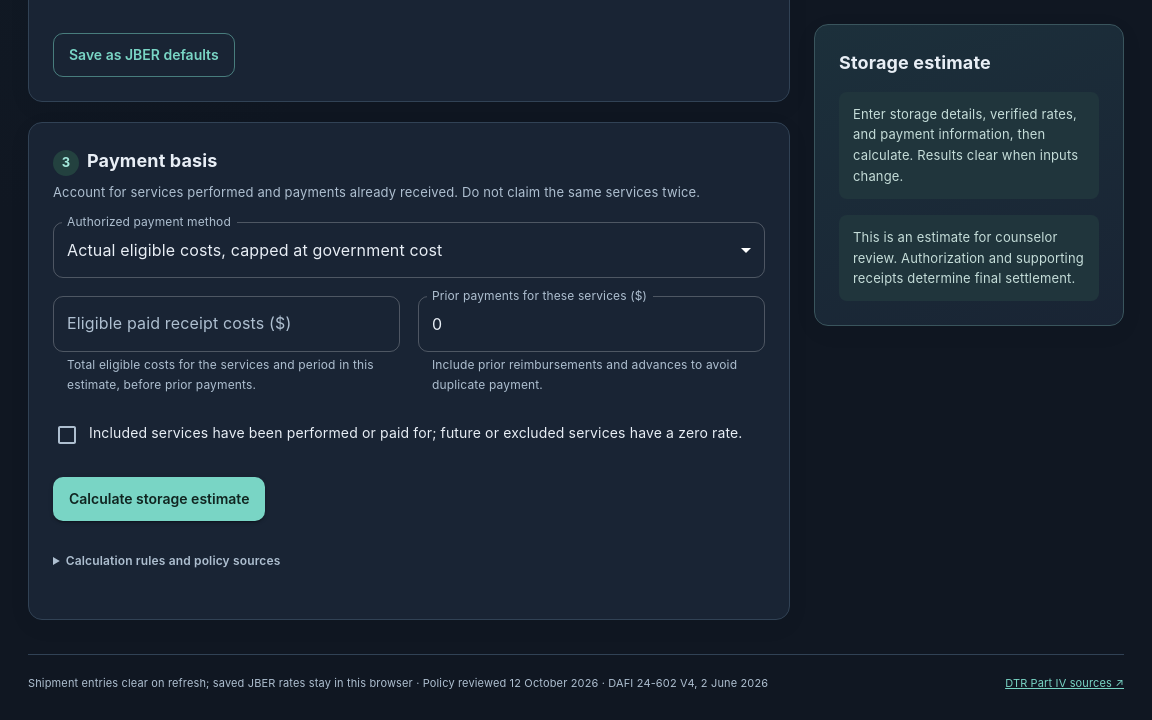
it: NTS rejects incomplete storage details
The width and height of the screenshot is (1152, 720).
(page scrolled)
Step 1. Click the button "Calculate storage estimate" → (159, 499), box [53,477,265,521]
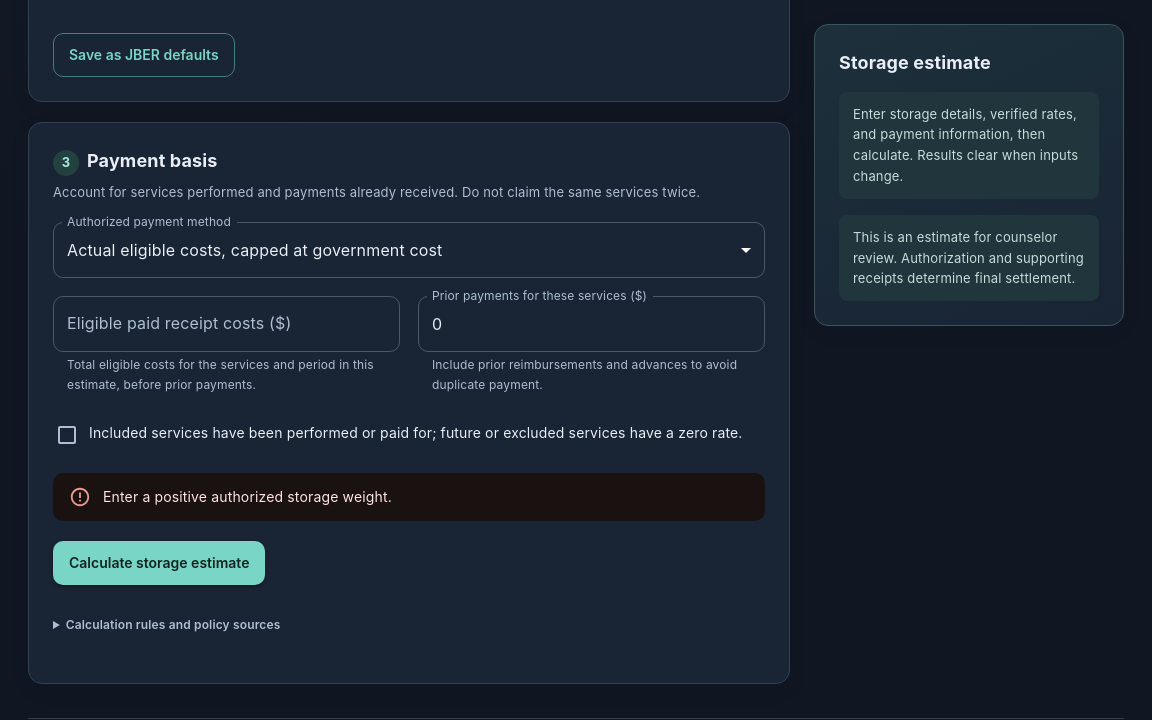
Result: the message shows "weight" at [103,488,392,505]
